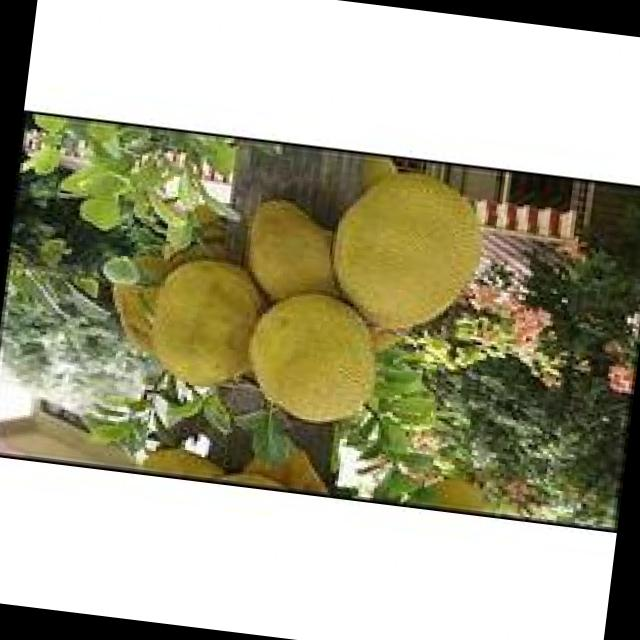Fruit: (302, 150, 508, 366)
